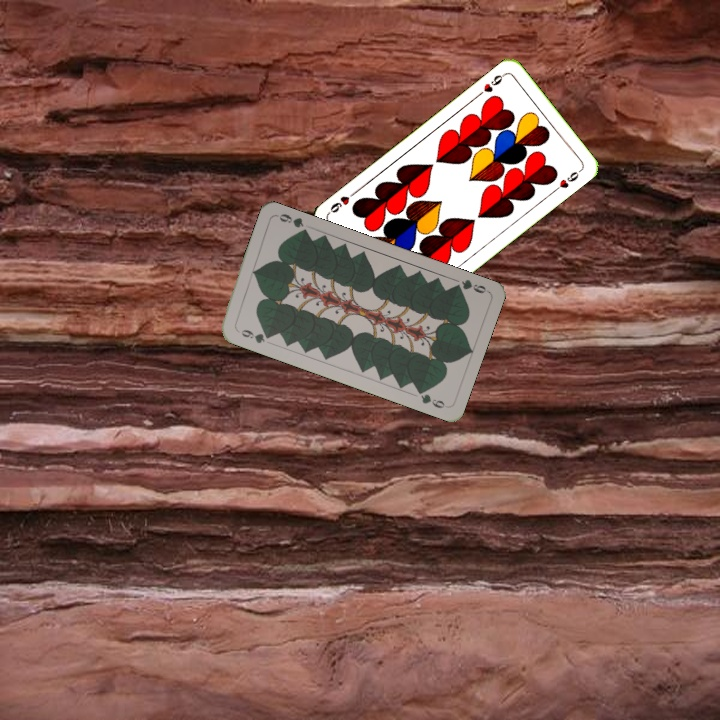G9: (449, 275, 490, 296), (237, 325, 273, 346)
H9: (474, 69, 508, 99)
